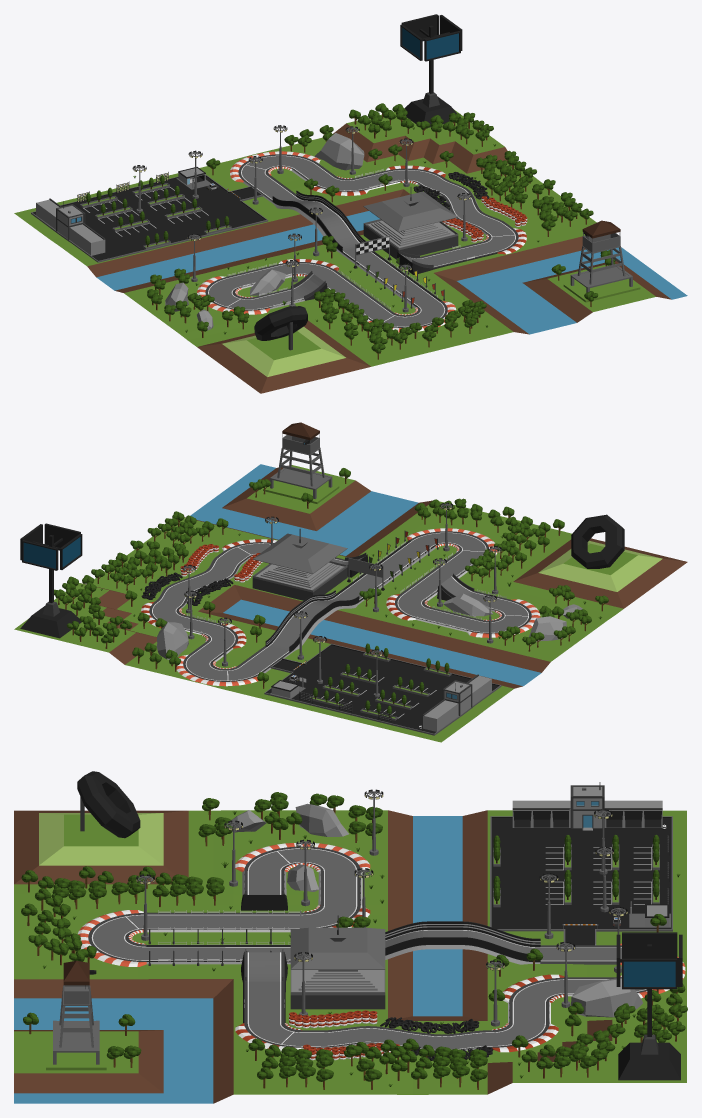
Rendered from race_track.glb.
The picture shows the model from 3 angles, top to bottom: view 1: azimuth 30°, elevation 25°; view 2: azimuth 150°, elevation 25°; view 3: azimuth 270°, elevation 25°; orthographic projection. The views are drawn at different scales.
Parts seen in each view (by area): view 1: Earth, parking, bridge, tribune, tower.001, tower, garages, crooked road, road 180.002, road 180.001, springboard, big wheel (+10 smaller); view 2: Earth, parking, bridge, tribune, tower.001, tower, big wheel, garages, crooked road, road 180.002, road 180.001, road 180 (+11 smaller); view 3: Earth, parking, bridge, tribune, tower.001, garages, tower, springboard, road.002, crooked road, road 180.001, road 180 (+13 smaller).
Boxes of the visible parts, <box> form: Earth: <box>14,109,687,393</box>; parking: <box>31,174,268,262</box>; bridge: <box>243,175,441,307</box>; tribune: <box>363,187,458,259</box>; tower.001: <box>400,14,462,127</box>; tower: <box>570,220,632,292</box>; garages: <box>36,198,105,255</box>; crooked road: <box>417,177,512,234</box>; road 180.002: <box>230,151,320,182</box>; road 180.001: <box>197,276,269,314</box>; springboard: <box>396,242,497,274</box>; big wheel: <box>254,306,307,350</box>; Earth: <box>14,464,687,742</box>; parking: <box>264,643,501,735</box>; bridge: <box>237,540,435,673</box>; tribune: <box>252,528,347,600</box>; tower.001: <box>20,523,82,638</box>; tower: <box>270,422,332,498</box>; big wheel: <box>571,514,624,568</box>; garages: <box>423,674,491,731</box>; crooked road: <box>155,551,250,608</box>; road 180.002: <box>176,654,259,686</box>; road 180.001: <box>467,599,540,637</box>; road 180: <box>407,528,497,557</box>; Earth: <box>14,810,686,1103</box>; parking: <box>489,816,672,945</box>; bridge: <box>146,921,616,964</box>; tribune: <box>290,915,385,1009</box>; tower.001: <box>616,932,682,1080</box>; garages: <box>512,782,662,830</box>; tower: <box>53,960,99,1064</box>; springboard: <box>241,949,287,1023</box>; road.002: <box>147,912,302,932</box>; crooked road: <box>302,1026,491,1050</box>; road 180.001: <box>235,842,370,871</box>; road 180: <box>78,910,146,966</box>.
Bounding box in the file's own units: 44.74 × 10.66 × 44.81.
Materials: 4 (3 with a texture image).
